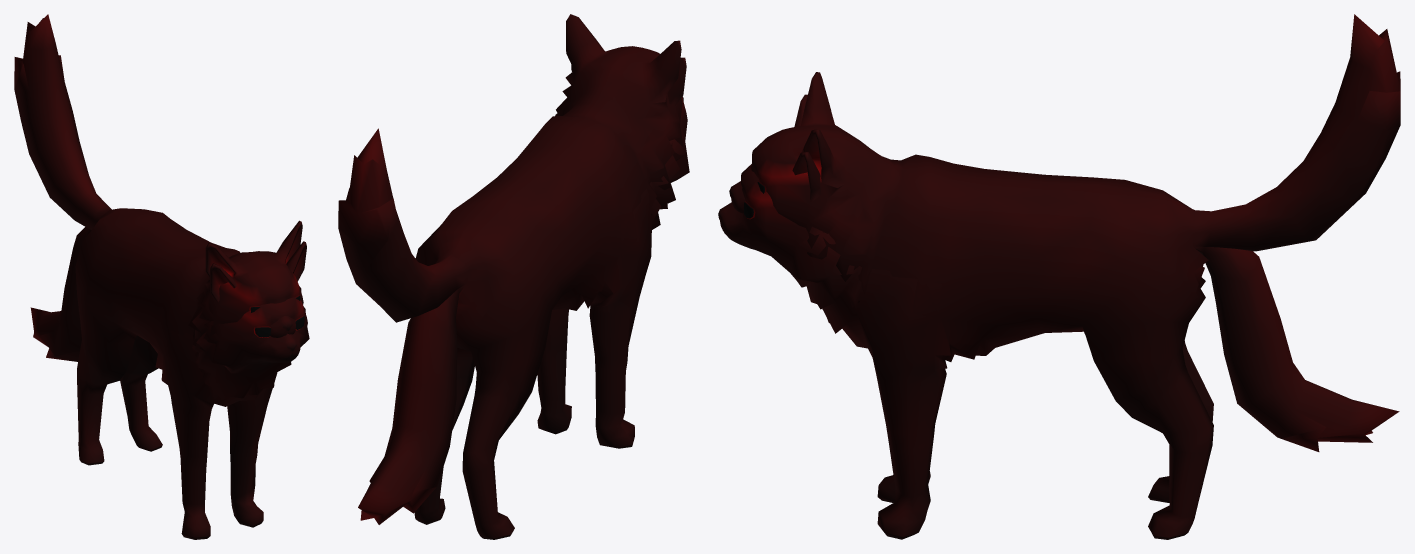
File: Animals_Bel.fbx
3 views of the same model, side by side, from view 1: azimuth 30°, elevation 25°; view 2: azimuth 150°, elevation 25°; view 3: azimuth 270°, elevation 25° (orthographic). The views are drawn at different scales.
Visible parts, largest first — view 1: alt602, alt603; view 2: alt602, alt603; view 3: alt602, alt603.
Part boxes in pixels (x1=…): alt602: x1=30, y1=208, x2=303, y2=539; alt603: x1=14, y1=14, x2=309, y2=458; alt602: x1=358, y1=14, x2=684, y2=539; alt603: x1=338, y1=57, x2=689, y2=352; alt602: x1=729, y1=72, x2=1399, y2=539; alt603: x1=718, y1=14, x2=1400, y2=434.
Bounding box in the file's own units: 15.12 × 52.97 × 65.37.
